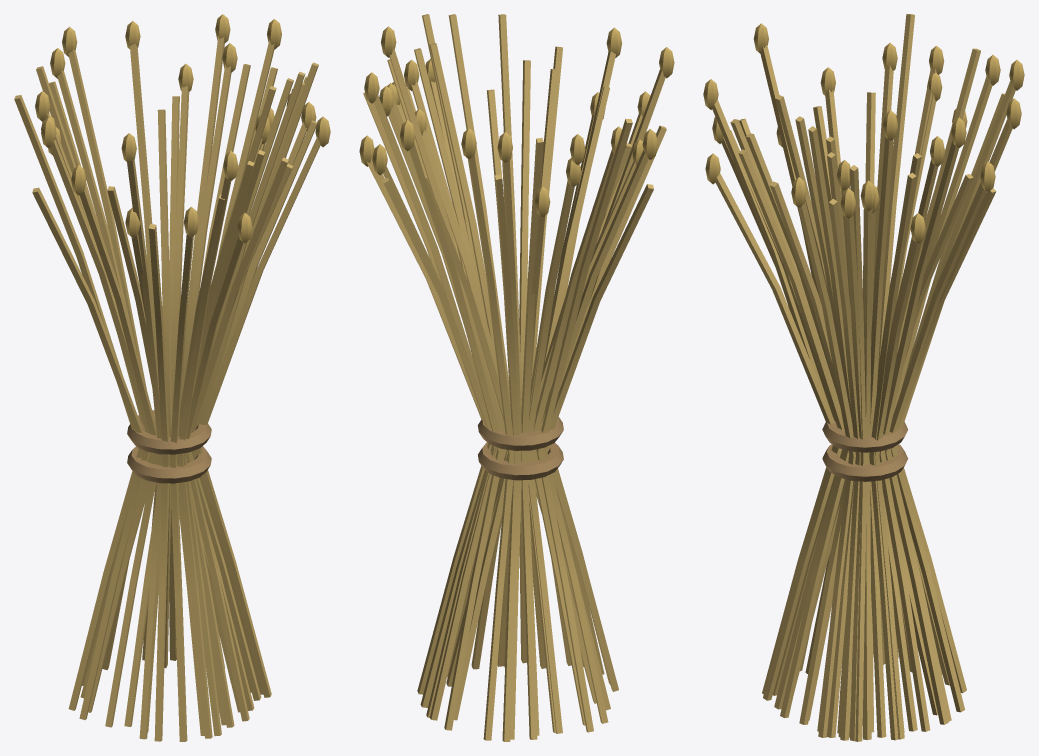
Rendered from deco_bundle_stalks.fbx.
3 renders of one model, left to right at view 1: azimuth 30°, elevation 25°; view 2: azimuth 150°, elevation 25°; view 3: azimuth 270°, elevation 25°, orthographic.
Visible parts, largest first — view 1: Bundle_Stalks_Stalks, Bundle_Stalks_Tie; view 2: Bundle_Stalks_Stalks, Bundle_Stalks_Tie; view 3: Bundle_Stalks_Stalks, Bundle_Stalks_Tie.
Part boxes in pixels (<box>): Bundle_Stalks_Stalks: <box>14,14,330,741</box>; Bundle_Stalks_Tie: <box>127,410,211,483</box>; Bundle_Stalks_Stalks: <box>359,14,674,741</box>; Bundle_Stalks_Tie: <box>477,416,563,480</box>; Bundle_Stalks_Stalks: <box>703,14,1024,741</box>; Bundle_Stalks_Tie: <box>822,421,908,481</box>.
Bounding box in the file's own units: 78.43 × 178 × 79.97.
